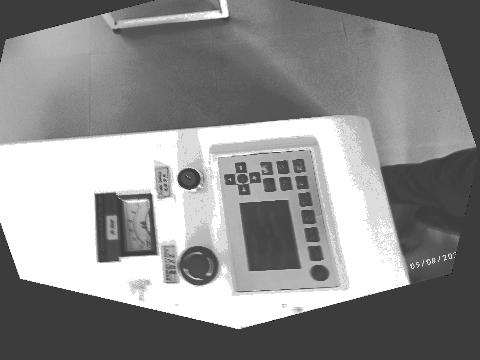Amp_Meter: (120, 195, 155, 253)
Display: (241, 201, 299, 271)
Down_button: (249, 172, 261, 183)
Emergency_Stop: (179, 246, 217, 285)
Enter_button: (261, 162, 273, 175)
Esc_button: (263, 178, 275, 192)
File_button: (296, 176, 308, 189)
Frame_button: (277, 161, 289, 174)
Left_button: (238, 185, 249, 195)
Max-Power_button: (299, 193, 311, 206)
Min-Power_button: (302, 210, 315, 224)
Origin_button: (279, 177, 292, 191)
Power_switch: (178, 168, 203, 192)
Pulse_button: (309, 246, 323, 261)
Reset_button: (312, 265, 328, 281)
Right_button: (235, 162, 246, 173)
Speed_button: (306, 227, 319, 242)
Start-Pause_button: (293, 159, 305, 173)
Up_button: (224, 174, 236, 185)
Z_U_button: (237, 174, 248, 184)
